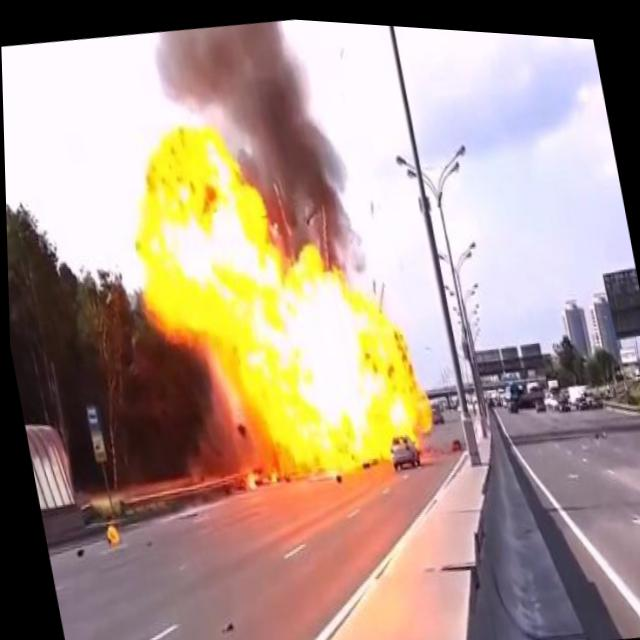fire: (103, 79, 445, 509), (100, 519, 120, 547)
